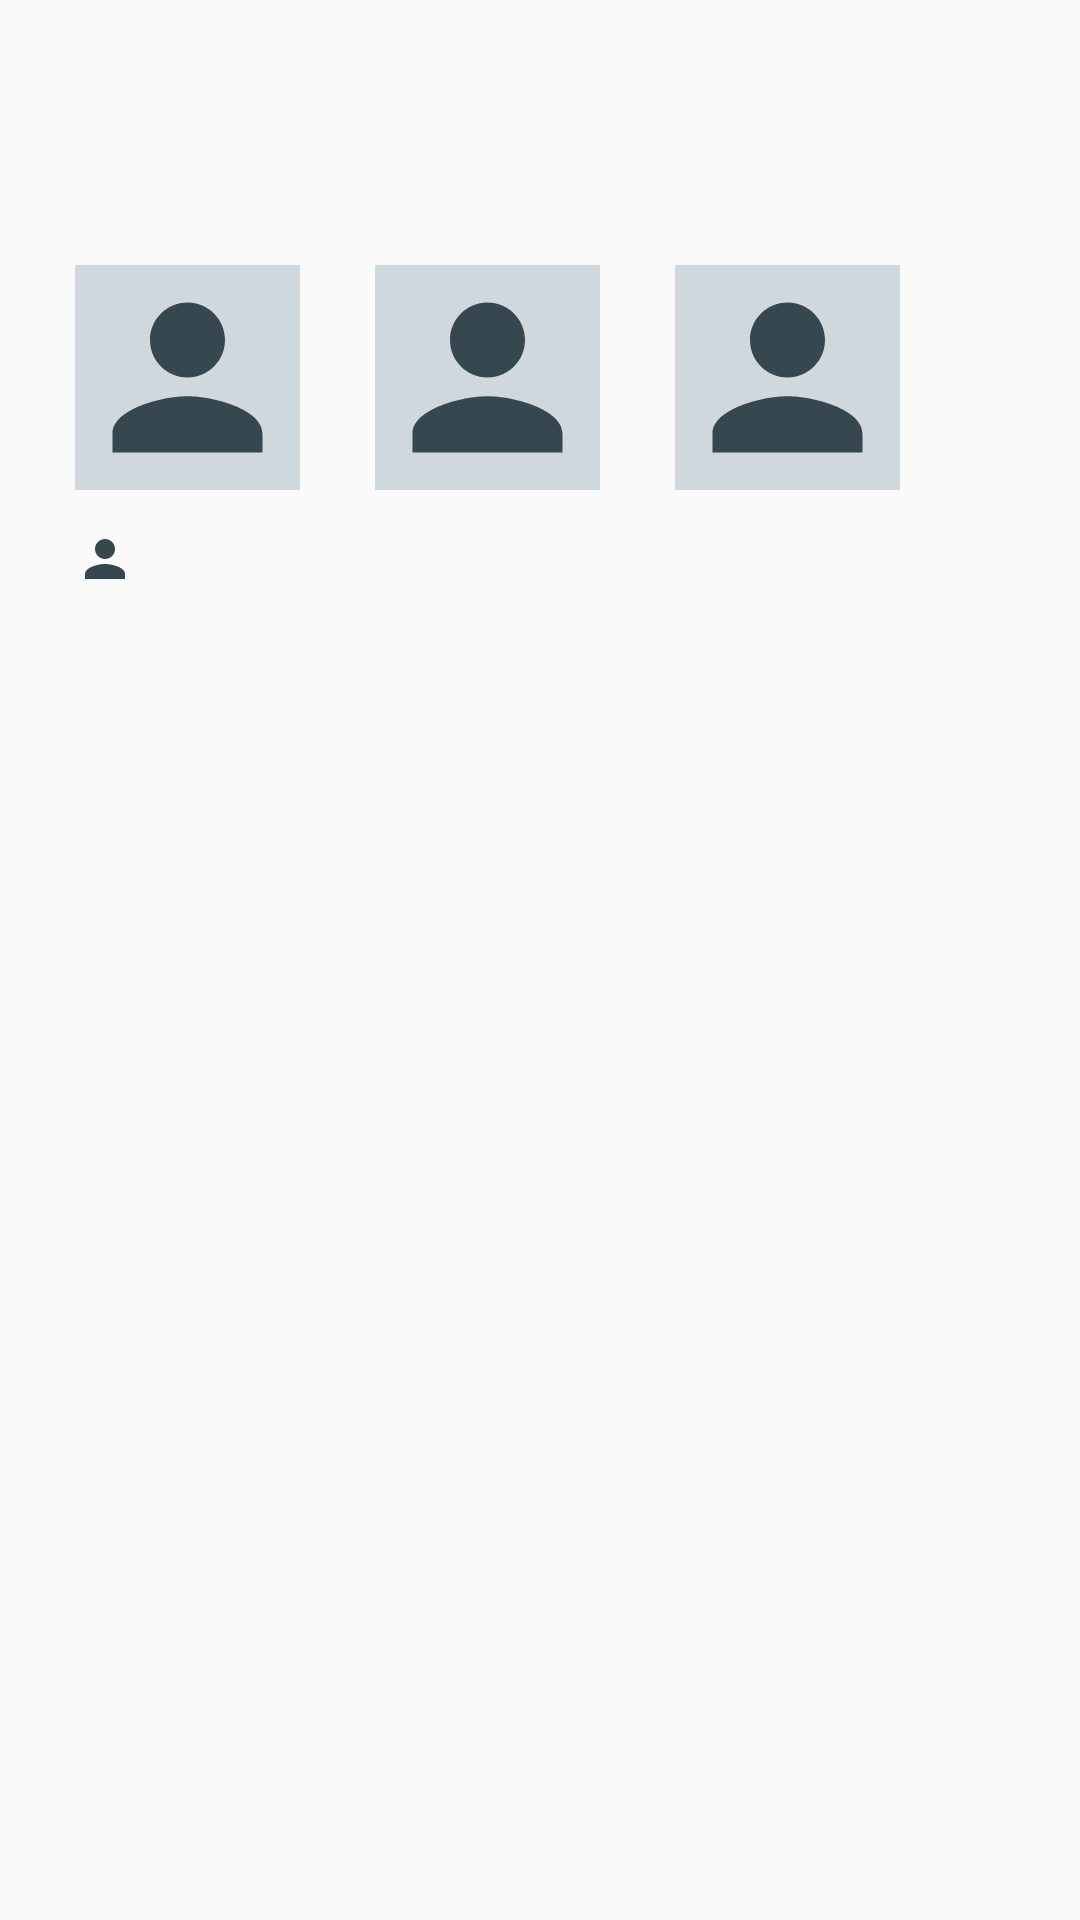

Locate icon controls on the screen. Image size 1080x1920, boxes as (left=x1, top=y1, right=x2, bottom=y2).
person: (left=75, top=265, right=300, bottom=490), (left=375, top=265, right=600, bottom=490), (left=675, top=265, right=900, bottom=490), (left=85, top=539, right=125, bottom=579)
